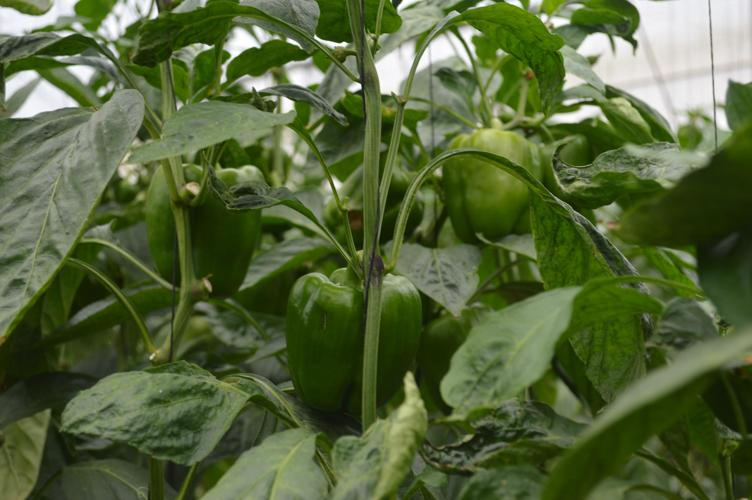BellPepper: (273, 267, 422, 410), (137, 155, 264, 303), (441, 130, 560, 236)
